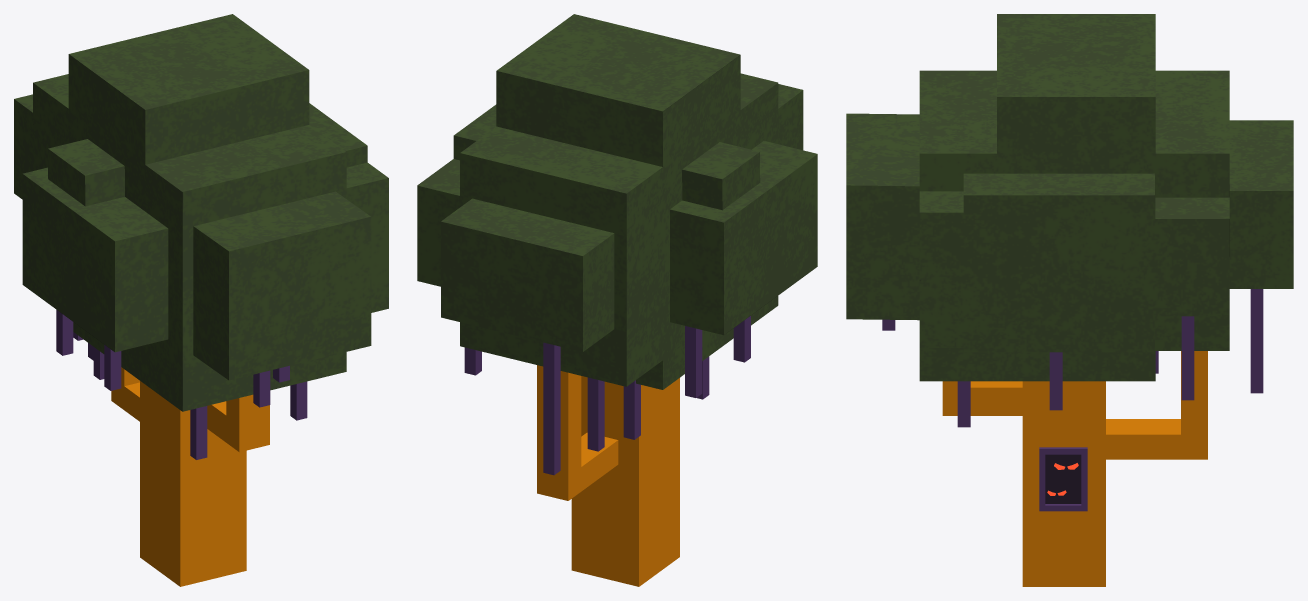
Rendered from 3D.AlberoCattivo.fbx.
3 views of the same model, side by side, from view 1: azimuth 30°, elevation 25°; view 2: azimuth 150°, elevation 25°; view 3: azimuth 270°, elevation 25° (orthographic). The views are drawn at different scales.
Parts seen in each view (by area): view 1: Foglie, tronco, Liane; view 2: Foglie, tronco, Liane; view 3: Foglie, tronco, Liane, Buco dentro, Buco fuori.
Part boxes in pixels (x1,y1,x2,y2): Foglie: (14,14,388,411); tronco: (111,367,269,586); Liane: (56,310,307,459); Foglie: (417,14,817,389); tronco: (537,365,679,586); Liane: (464,316,750,475); Foglie: (846,14,1293,381); tronco: (942,351,1207,586); Liane: (882,289,1263,427); Buco dentro: (1045,454,1081,503); Buco fuori: (1039,447,1087,511).
Bounding box in the file's own units: 103 × 189 × 148.
